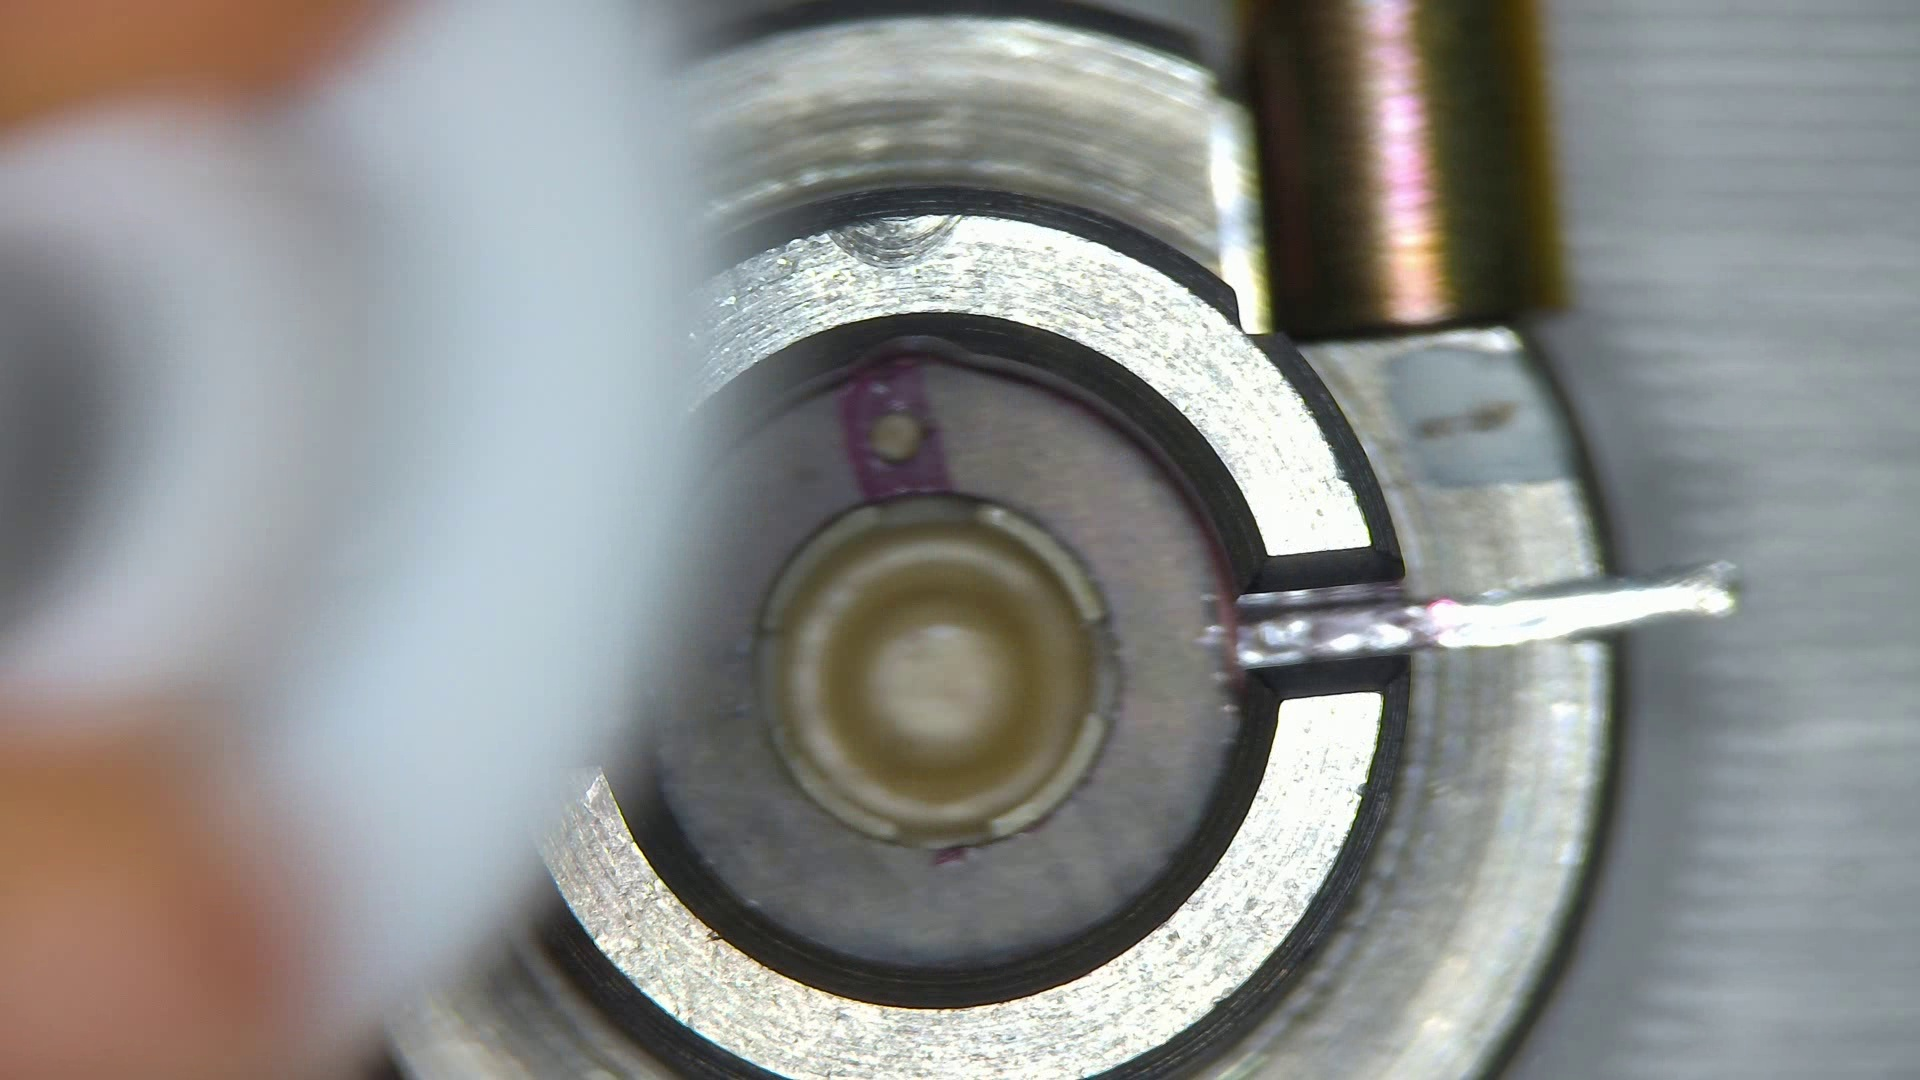YellowOring: (661, 360, 1234, 968)
